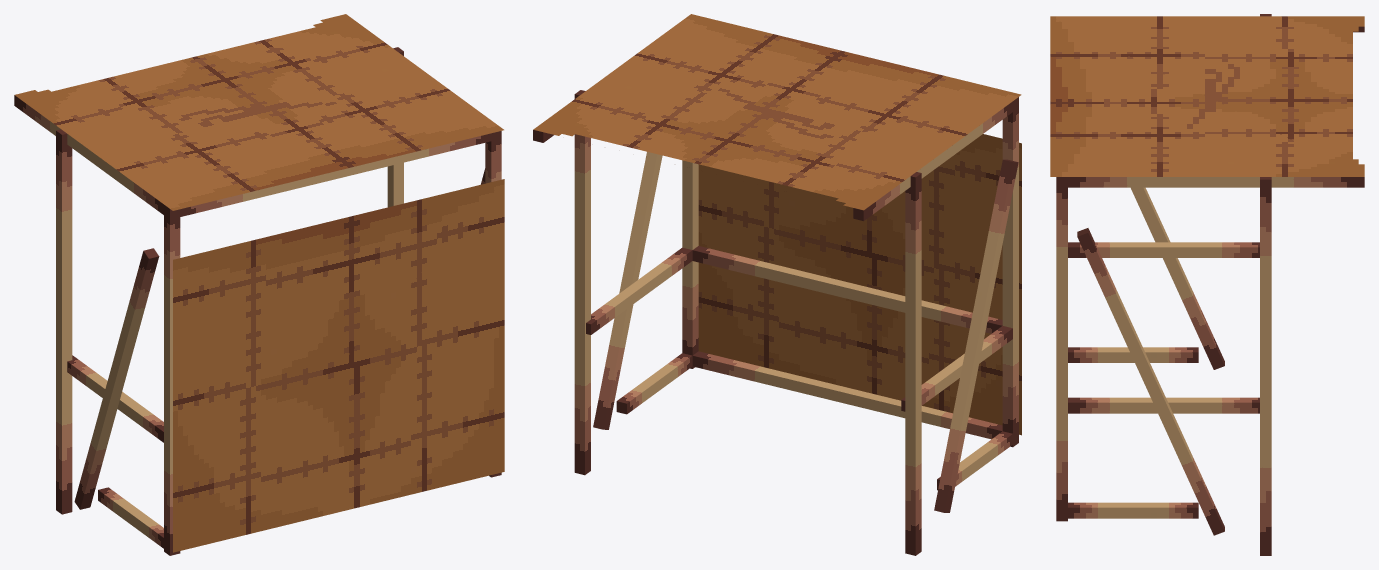
Rendered from covering.gltf.
The picture shows the model from 3 angles, left to right: view 1: azimuth 30°, elevation 25°; view 2: azimuth 150°, elevation 25°; view 3: azimuth 270°, elevation 25°; orthographic projection.
Parts seen in each view (by area): view 1: cube; view 2: cube; view 3: cube.
Boxes of the visible parts, <box> form: cube: <box>14,14,504,555</box>; cube: <box>533,14,1021,555</box>; cube: <box>1050,14,1364,555</box>.
Bounding box in the file's own units: 2.12 × 2.19 × 1.66.
Materials: 1 (1 with a texture image).
